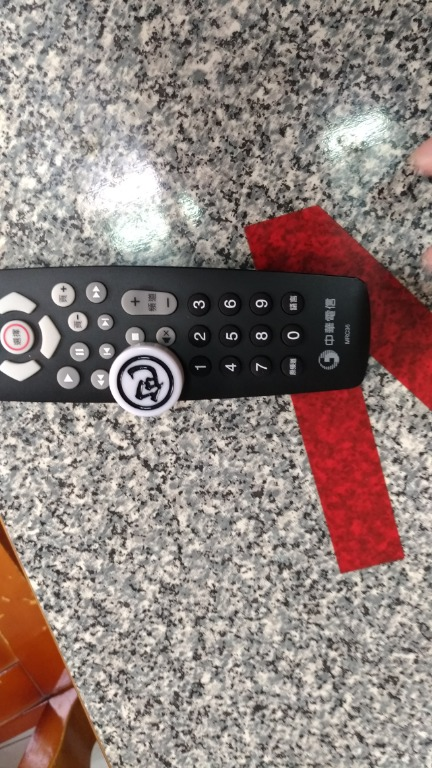b-cannon: (89, 323, 203, 441)
